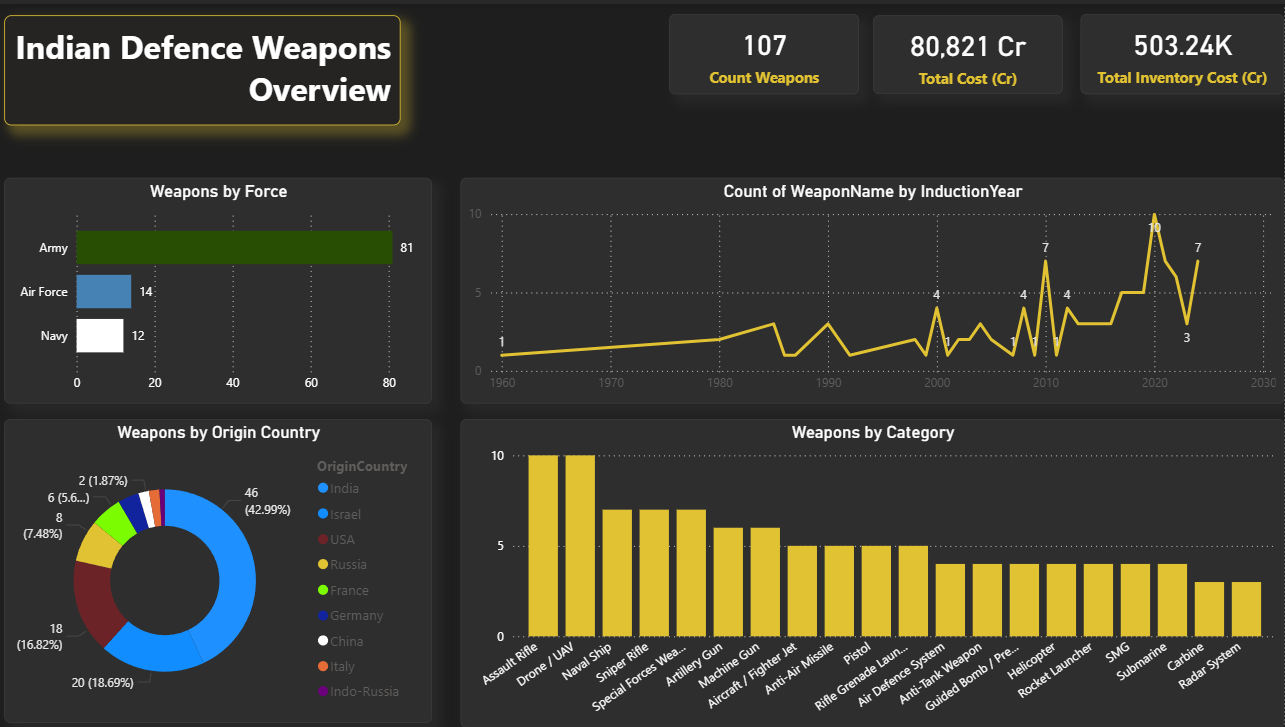

This screenshot's page, from the dashboard's own definition file:
{"tool":"powerbi","page":{"name":"Page 1","canvas":[1280,720],"ordinal":0},"visuals":[{"type":"textbox","box":[6.2,11.2,394.3,109.5],"z":0},{"type":"card","fields":{"Values":["WeaponMaster.Count Weapons"]},"box":[668,10,189.1,79.6],"z":1000},{"type":"card","fields":{"Values":["WeaponMaster.Total Cost (Cr)"]},"box":[1507.1,120.1,330.9,105.4],"z":2000},{"type":"clusteredBarChart","title":"Weapons by Force","fields":{"Category":["Forcetable.ForceName"],"Y":["WeaponMaster.Count Weapons"]},"box":[6.2,172.9,425.4,225.2],"z":3000},{"type":"columnChart","title":" Weapons by Category","fields":{"Category":["WeaponCategory.CategoryName"],"Y":["WeaponMaster.Count Weapons"]},"box":[460.3,413,819.8,307.3],"z":4000},{"type":"donutChart","title":"Weapons by Origin Country","fields":{"Category":["OriginCountry.OriginCountry"],"Y":["WeaponMaster.Count Weapons"]},"box":[6.2,413,425.4,302.3],"z":5000},{"type":"lineChart","fields":{"Category":["WeaponMaster.InductionYear"],"Y":["CountNonNull(WeaponMaster.WeaponName)"]},"box":[460.3,172.9,819.8,225.2],"z":6000},{"type":"card","fields":{"Values":["WeaponMaster.Total Cost (Cr)"]},"box":[870.8,11.2,189.1,78.4],"z":7000},{"type":"card","fields":{"Values":["WeaponMaster.Total Inventory Cost (Cr)"]},"box":[1077.3,10,202.8,79.6],"z":8000}]}

Visuals, with their boxes in screenshot pixels (x1, y1, x2, y2), scaled from the page's 1280x720 canvas onto the 1285x727 screenshot:
textbox: pyautogui.locateOnScreen(6, 11, 402, 122)
card - WeaponMaster.Count Weapons: pyautogui.locateOnScreen(671, 10, 860, 90)
"Weapons by Force" clusteredBarChart: pyautogui.locateOnScreen(6, 175, 433, 402)
" Weapons by Category" columnChart: pyautogui.locateOnScreen(462, 417, 1284, 726)
"Weapons by Origin Country" donutChart: pyautogui.locateOnScreen(6, 417, 433, 722)
lineChart - WeaponMaster.InductionYear x CountNonNull(WeaponMaster.WeaponName): pyautogui.locateOnScreen(462, 175, 1284, 402)
card - WeaponMaster.Total Cost (Cr): pyautogui.locateOnScreen(874, 11, 1064, 90)
card - WeaponMaster.Total Inventory Cost (Cr): pyautogui.locateOnScreen(1082, 10, 1284, 90)
